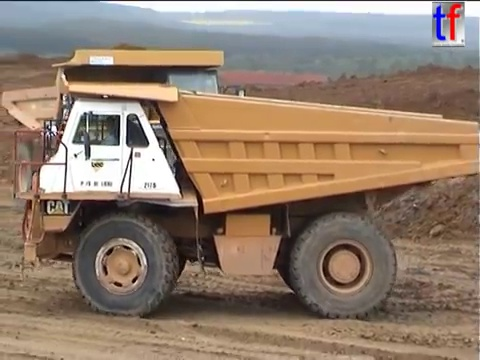truck: (10, 71, 480, 321), (1, 45, 248, 219)
